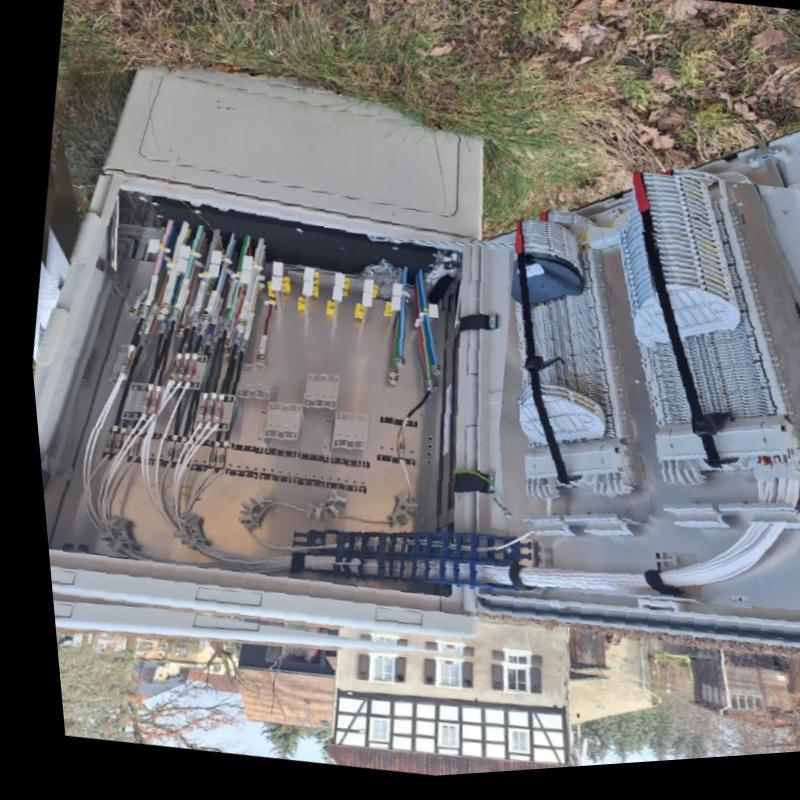NT-Gehause: (27, 79, 800, 660)
Spleiskassetten: (619, 182, 800, 543), (502, 227, 638, 548)
